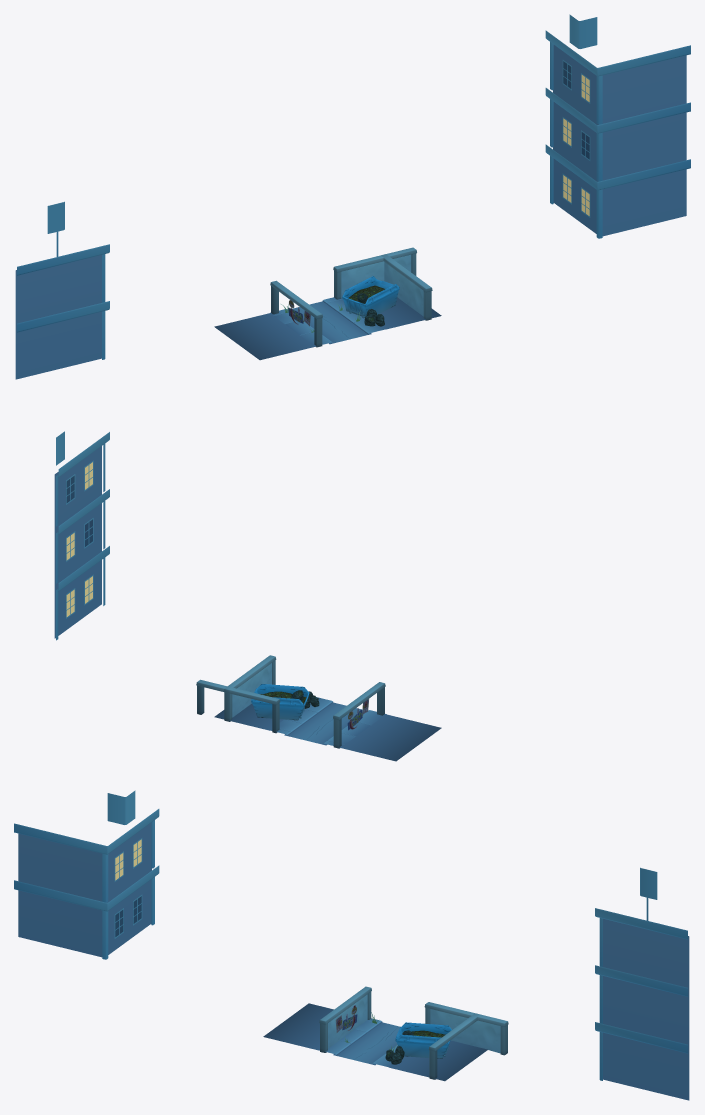
The model's file is UrbanPlasterWalls03.prefab.glb.
The picture shows the model from 3 angles, top to bottom: view 1: azimuth 30°, elevation 25°; view 2: azimuth 150°, elevation 25°; view 3: azimuth 330°, elevation 25°; orthographic projection.
Parts seen in each view (by area): view 1: FarBackBuilding01, UrbanPlasterWalls03, PlasteredWall01 (2), PlasteredWall01, SkipBlue, PlasteredWall01 (1); view 2: FarBackBuilding01, UrbanPlasterWalls03, PlasteredWall01, SkipBlue, PlasteredWall01 (2), PlasteredWall01 (1); view 3: FarBackBuilding01, UrbanPlasterWalls03, PlasteredWall01 (2), PlasteredWall01 (1), SkipBlue, PlasteredWall01.
Boxes of the visible parts, x1,y1,x2,y2 form: FarBackBuilding01: (15, 14, 690, 379); UrbanPlasterWalls03: (214, 297, 441, 360); PlasteredWall01 (2): (333, 247, 416, 299); PlasteredWall01: (381, 254, 432, 320); SkipBlue: (342, 276, 399, 318); PlasteredWall01 (1): (270, 280, 322, 347); FarBackBuilding01: (54, 431, 109, 640); UrbanPlasterWalls03: (214, 697, 441, 761); PlasteredWall01: (223, 655, 276, 721); SkipBlue: (251, 684, 309, 720); PlasteredWall01 (2): (196, 679, 280, 733); PlasteredWall01 (1): (333, 682, 385, 748); FarBackBuilding01: (14, 790, 689, 1100); UrbanPlasterWalls03: (263, 1003, 487, 1081); PlasteredWall01 (2): (424, 1002, 508, 1055); PlasteredWall01 (1): (319, 986, 371, 1052); SkipBlue: (395, 1022, 451, 1058); PlasteredWall01: (428, 1013, 479, 1079).
Bounding box in the file's own units: 76.34 × 26.74 × 10.17.
7 materials, 6 textured.
